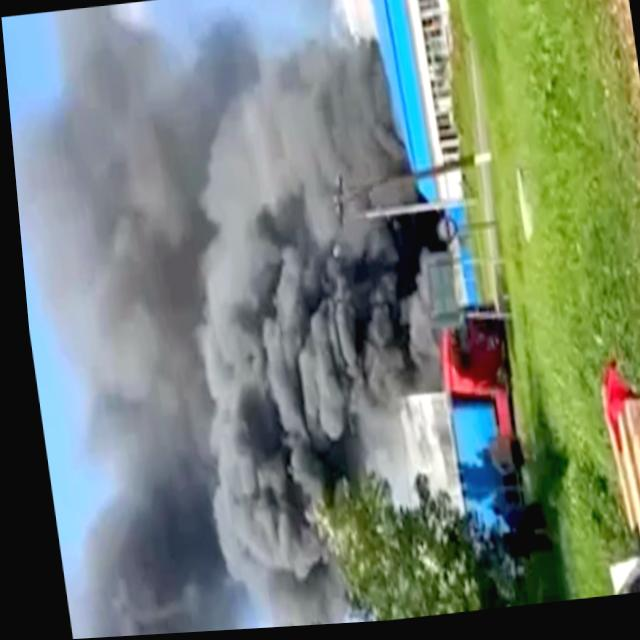Smoke: (0, 0, 483, 640)
